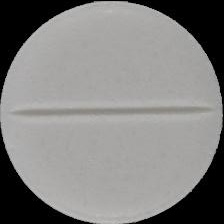42291-808: (0, 0, 224, 224)
